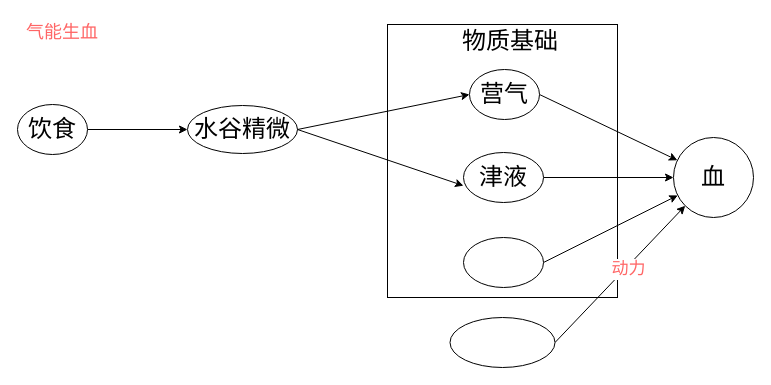
The diagram is 771 pixels wide and 385 high, and some of its shapes have lost their labels. The centre of each missing label's shape, as x and y in pixels:
肾精: the point at 503,262
脏腑之气: the point at 502,342
